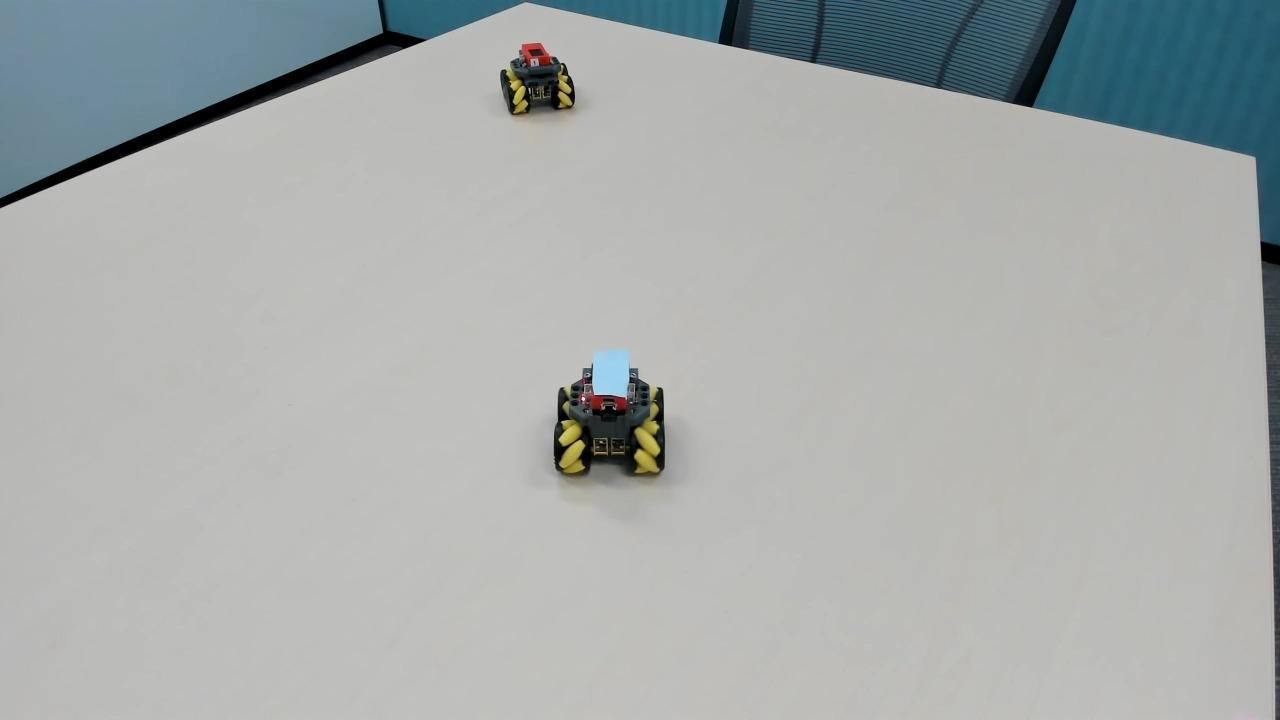B-Robot: (543, 346, 684, 496)
R-Robot: (492, 34, 588, 126)
